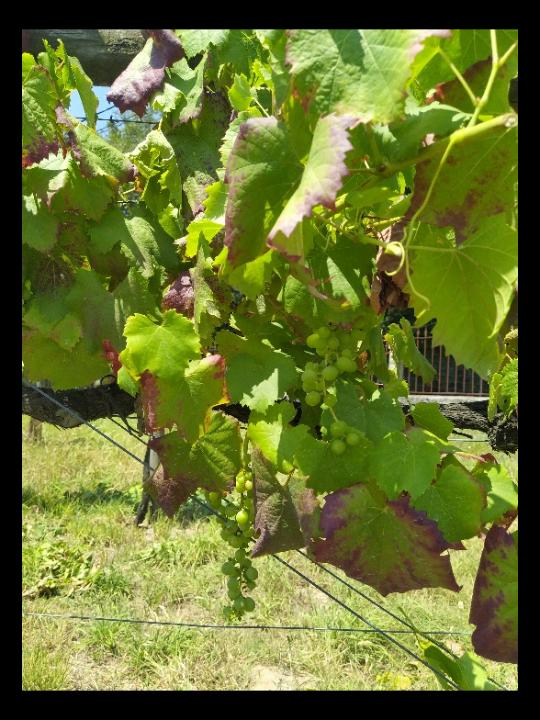grape: (198, 469, 268, 624), (296, 326, 363, 458)
